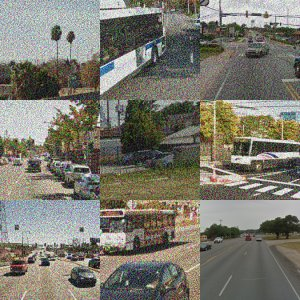公車: (208, 208, 300, 298), (222, 134, 242, 162)
汽車: (248, 135, 264, 158)
紅綠燈: (149, 32, 168, 62), (152, 207, 170, 232), (117, 200, 138, 219)
